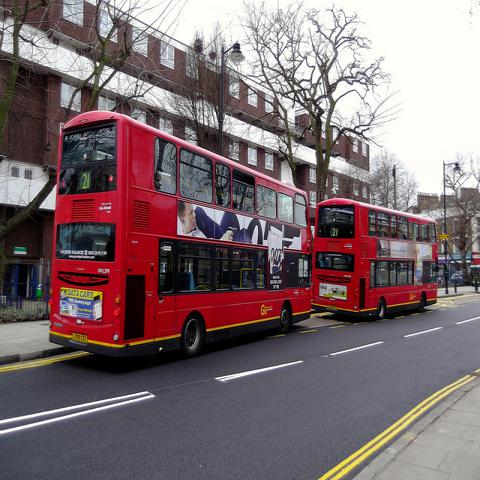bus: (49, 106, 313, 360), (312, 197, 438, 321)
